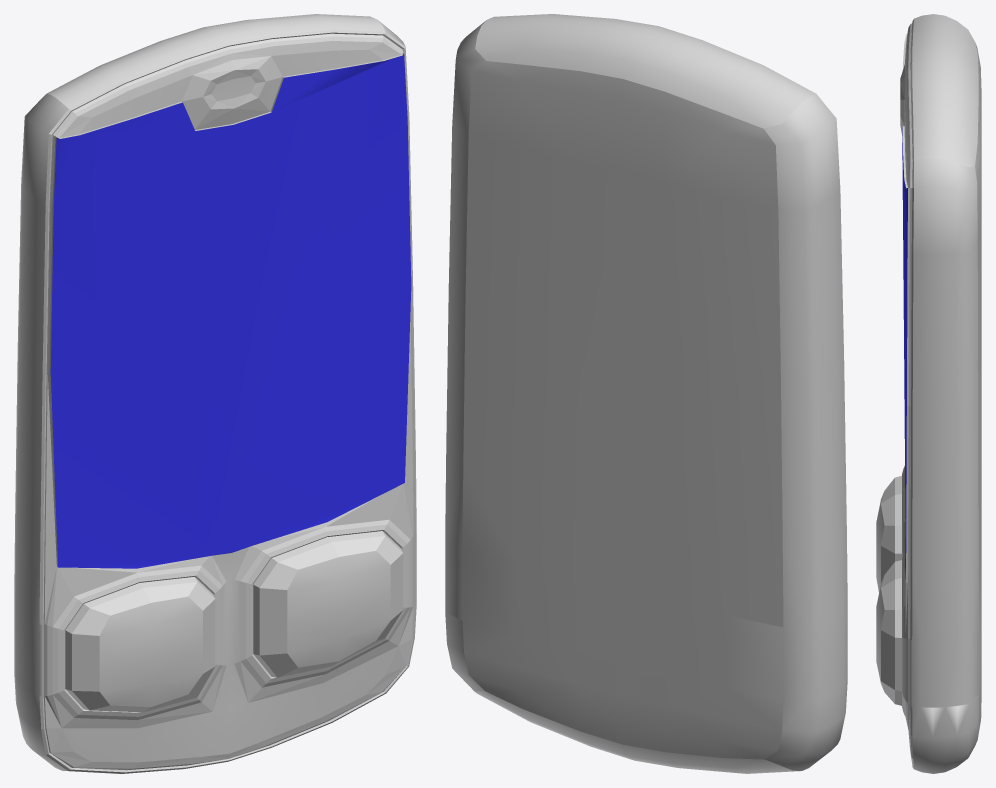
File: PDA.fbx
3 views of the same model, side by side, from view 1: azimuth 30°, elevation 25°; view 2: azimuth 150°, elevation 25°; view 3: azimuth 270°, elevation 25° (orthographic). The views are drawn at different scales.
Parts seen in each view (by area): view 1: Screen, Phone, Button0, Button1; view 2: Phone; view 3: Phone, Button0, Button1, Screen.
Part boxes in pixels (left/top/right/bottom): Screen: left=50, top=53, right=411, bottom=568; Phone: left=14, top=14, right=416, bottom=773; Button0: left=253, top=531, right=403, bottom=677; Button1: left=65, top=577, right=215, bottom=712; Phone: left=445, top=14, right=847, bottom=773; Phone: left=900, top=14, right=981, bottom=773; Button0: left=876, top=560, right=901, bottom=705; Button1: left=876, top=475, right=901, bottom=591; Screen: left=902, top=127, right=907, bottom=578.
Size of the model in its own units: 558 by 1015 by 145.
